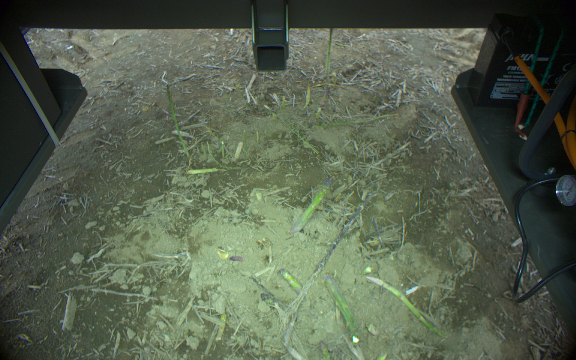aspa: (366, 275, 446, 341), (294, 177, 334, 236), (320, 274, 357, 336), (163, 81, 190, 160), (319, 28, 336, 81), (278, 269, 304, 296), (214, 313, 231, 343), (187, 165, 226, 178), (317, 338, 332, 360), (324, 87, 333, 103)
